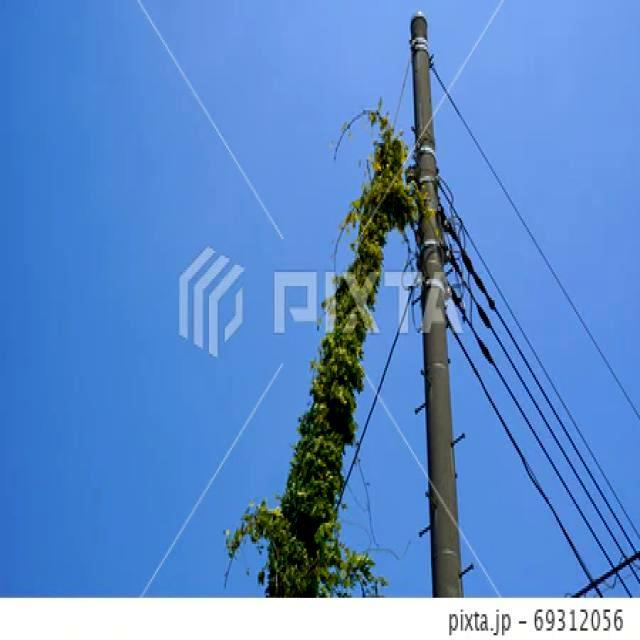light_pole: (322, 12, 474, 341)
